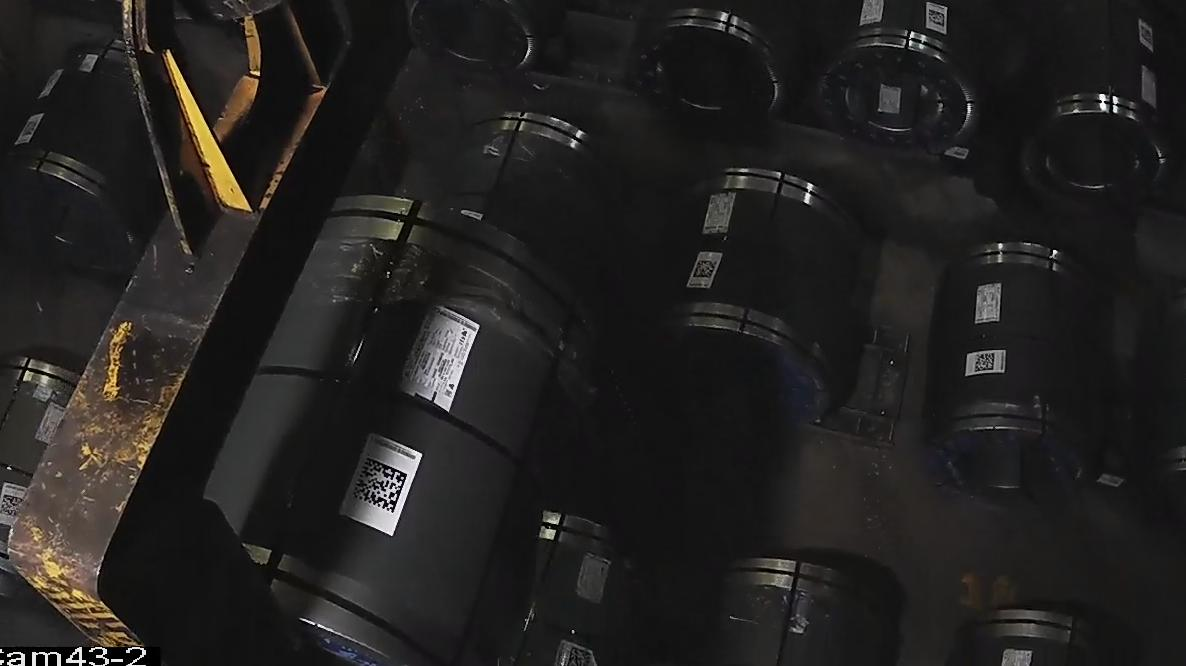data matrix: (350, 455, 410, 515), (972, 350, 998, 375), (692, 258, 719, 282), (564, 646, 594, 666), (926, 8, 948, 29), (1139, 24, 1156, 47)
